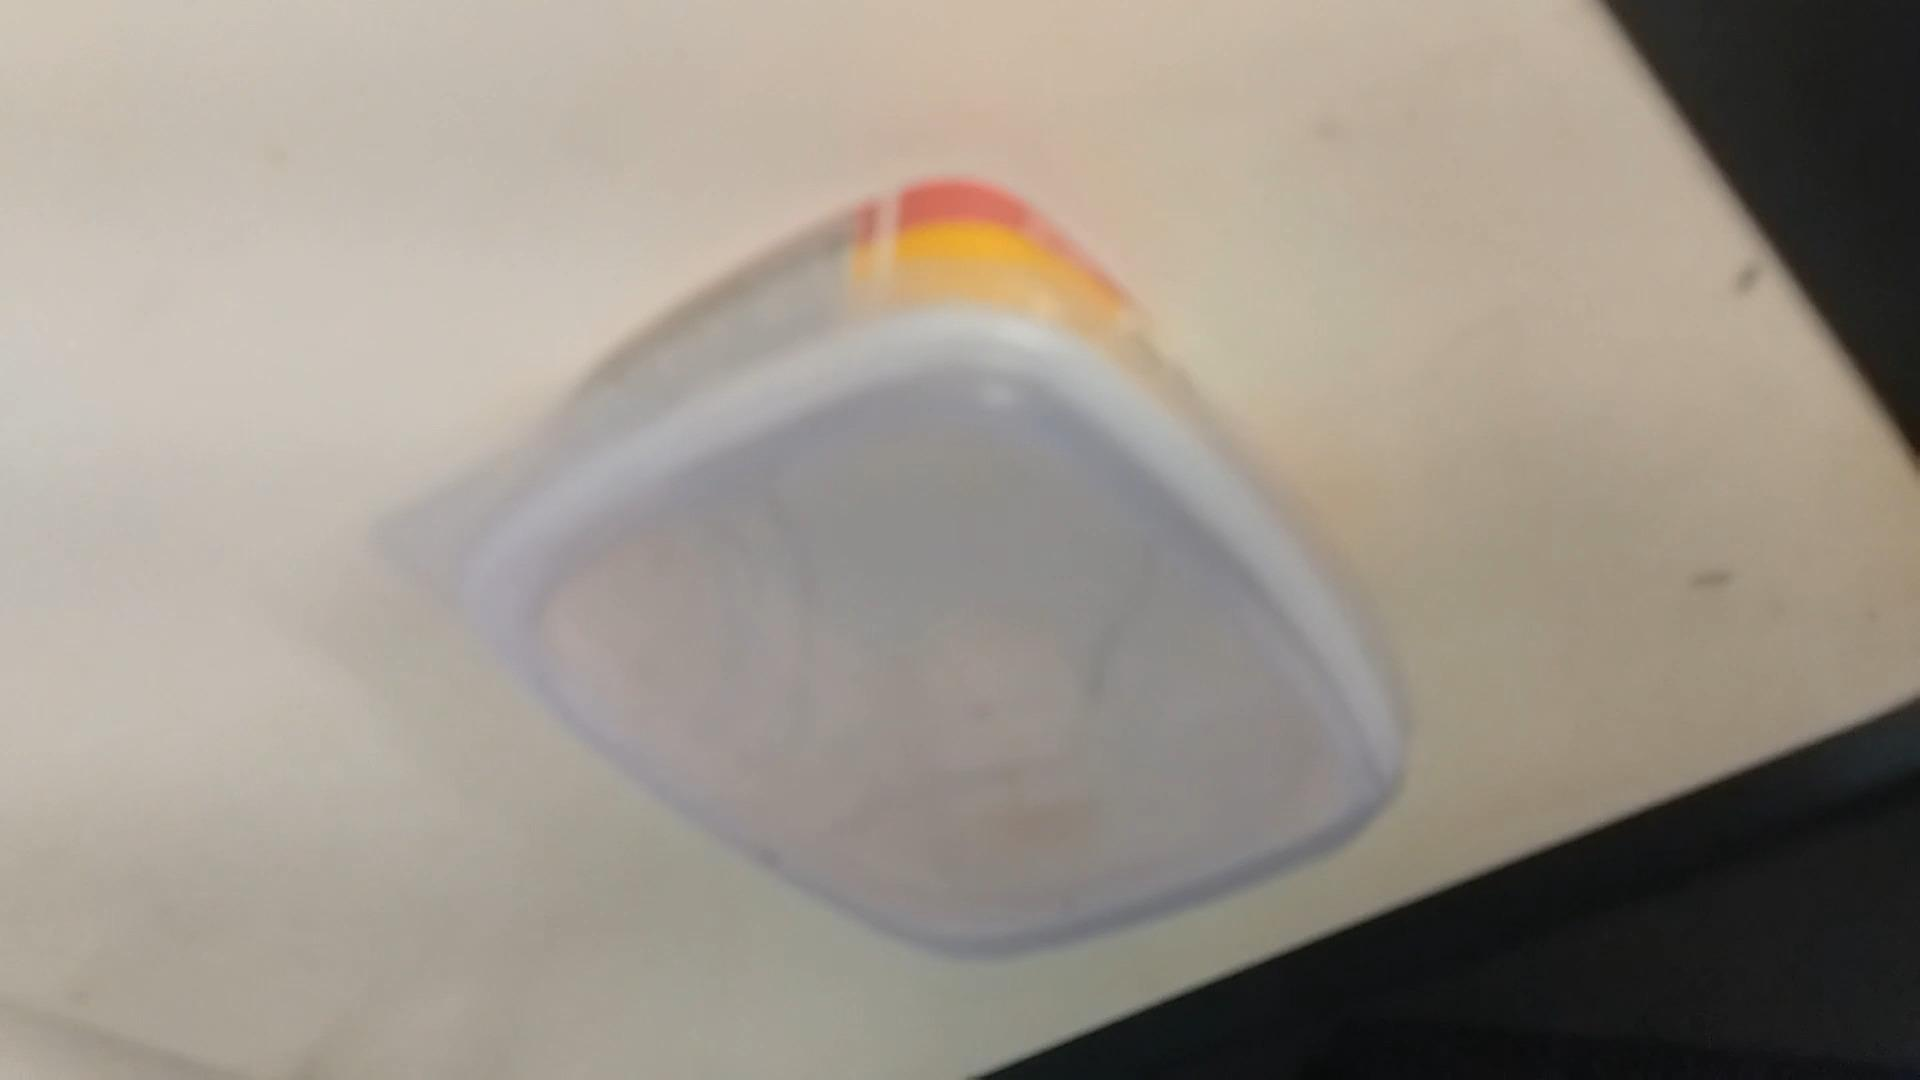butter: (404, 185, 1411, 971)
